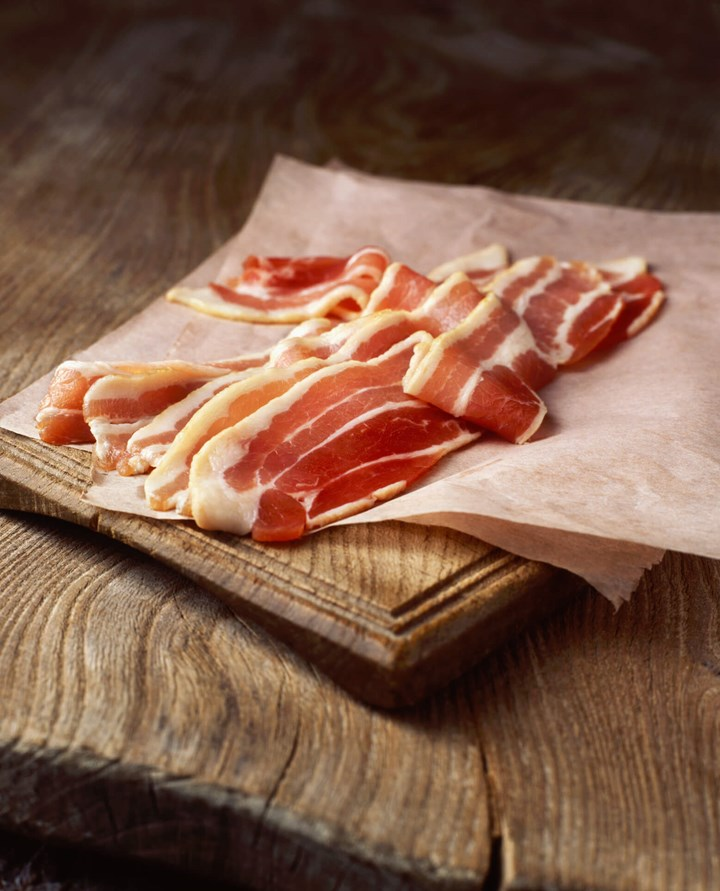bacon: (113, 220, 657, 580)
